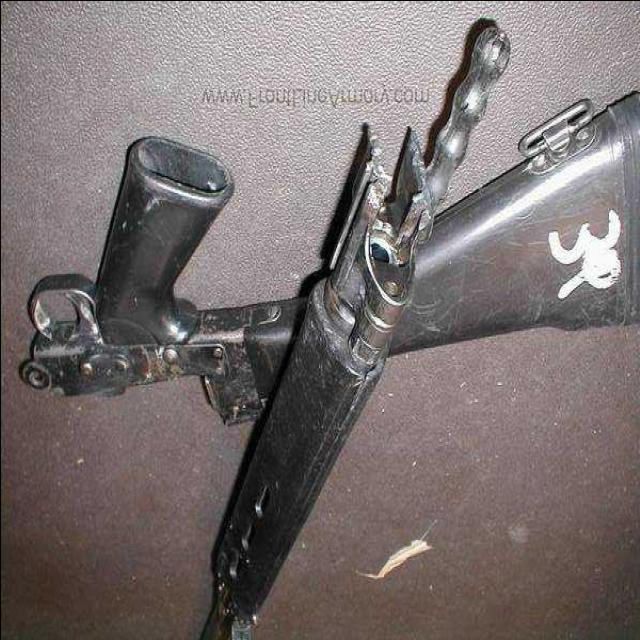heavyweapon: (31, 4, 640, 632)
